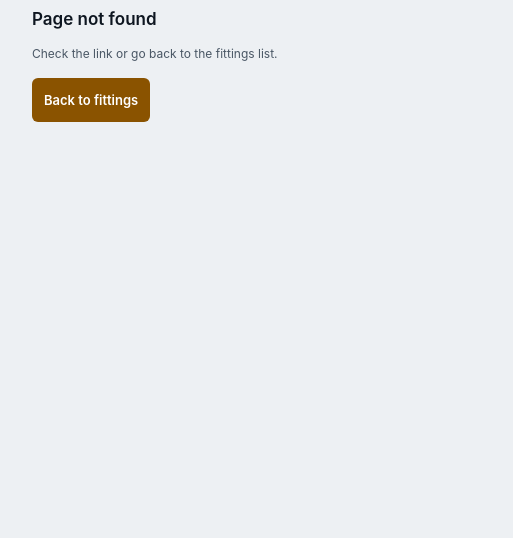
Test case: I7 not found pages › shows a 404 with a way home for unknown routes
Expected: the heading "Page not found" is shown, 32,8 -> 157,30
Click the link "Back to fittings".
click(91, 100)  # box 32,78 -> 150,122
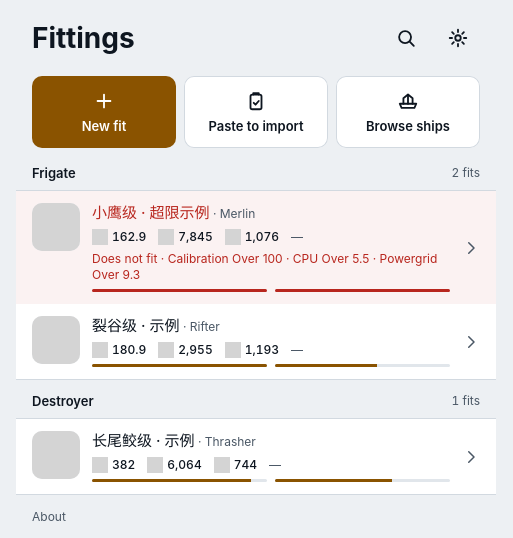
Now the heading "Fittings" is shown, box 32,21 -> 135,55
